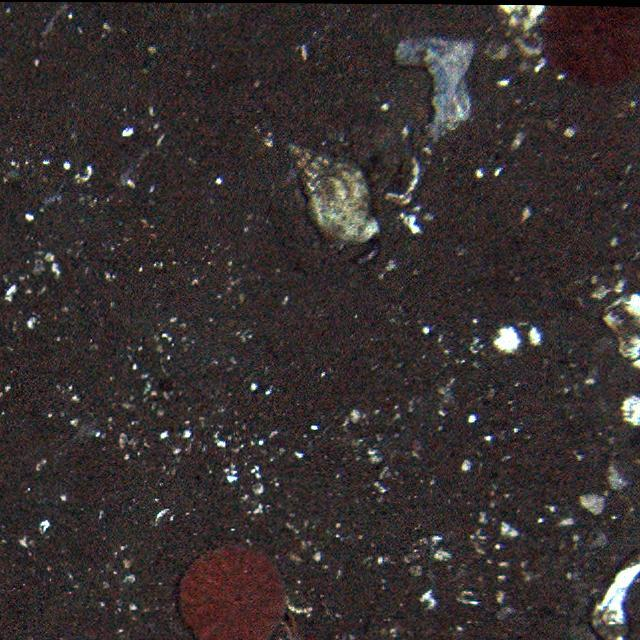whelk: (287, 138, 382, 249)
